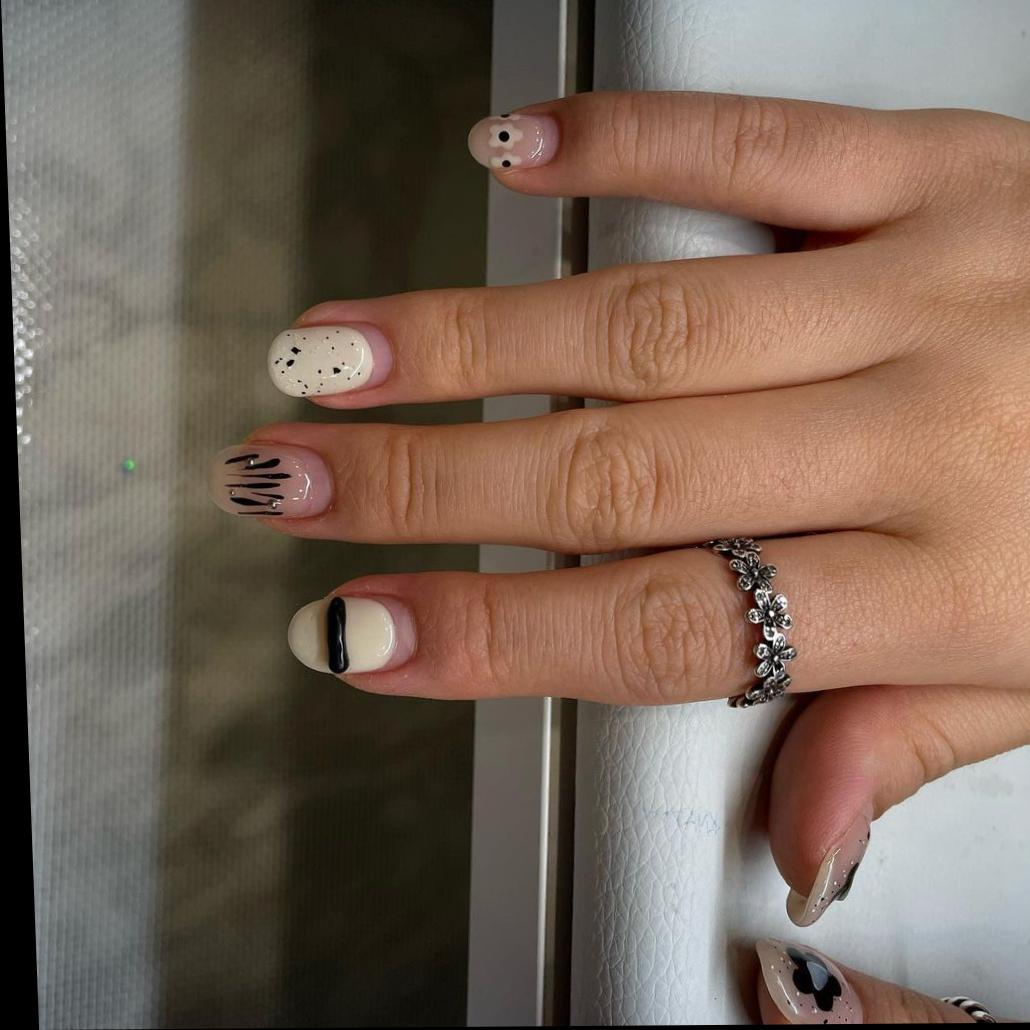nail: (781, 810, 877, 926), (207, 439, 336, 520), (265, 320, 395, 398), (323, 592, 419, 675), (465, 110, 562, 172)
